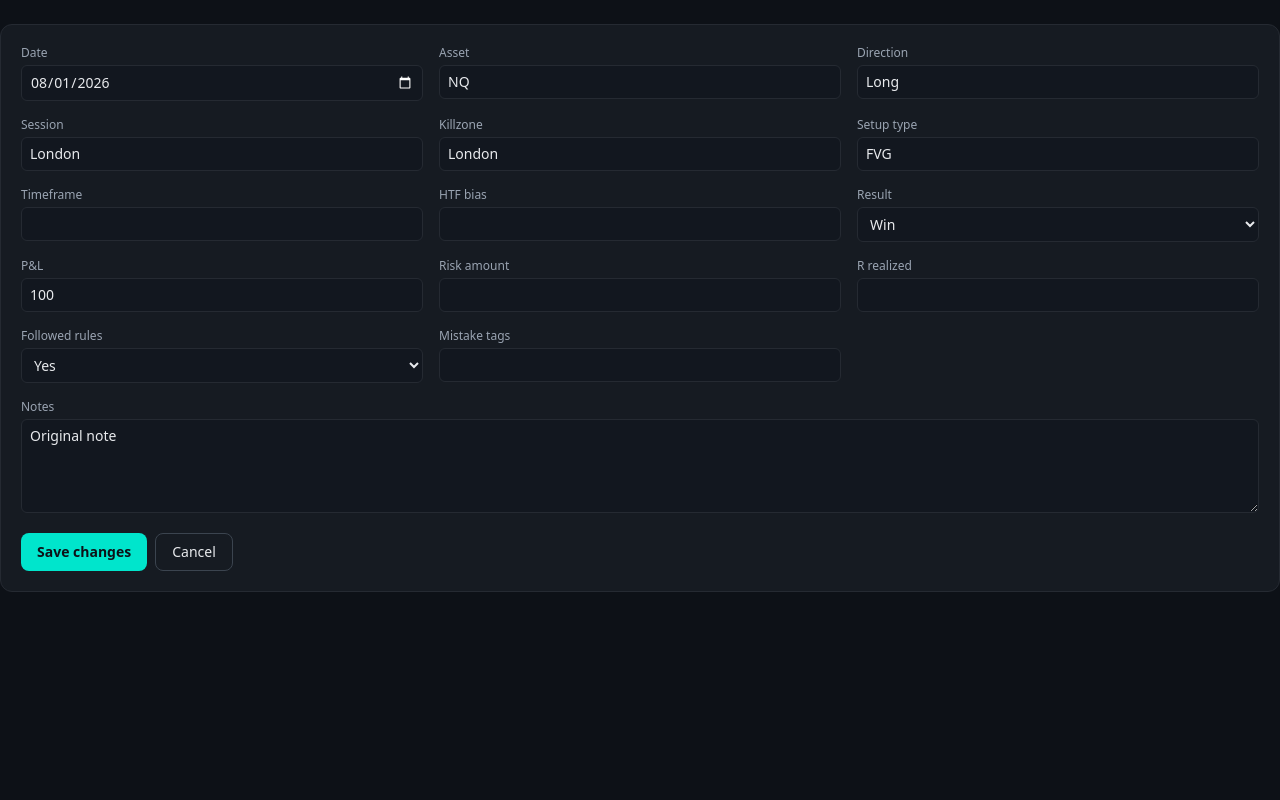
EditTradeForm › 409 conflict › does not silently discard the draft — the form is still there under Cancel
Replace the text in the field showing "NQ" with "ES" at (640, 82), box left=439, top=65, right=841, bottom=99
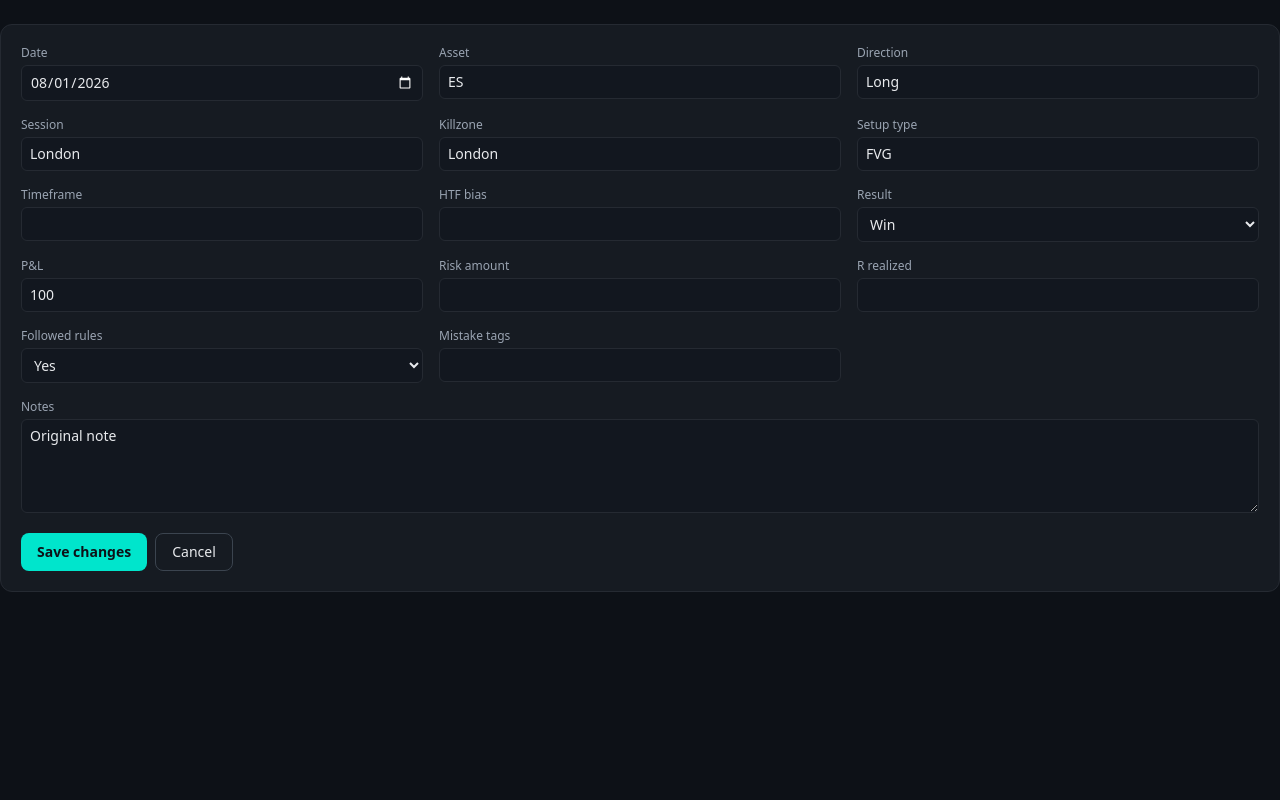
Click the button "Save changes" at (84, 552), box left=21, top=533, right=147, bottom=571
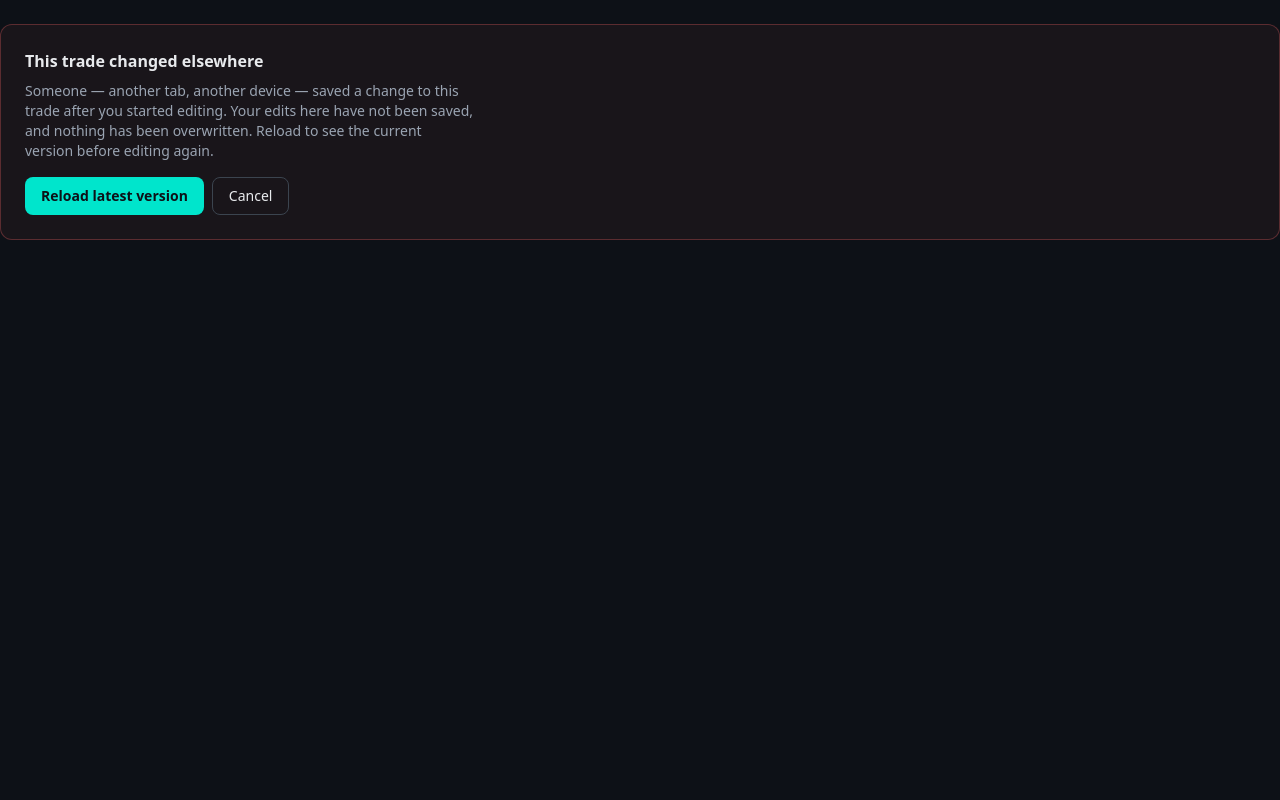
Expected: the button "Cancel" is shown, left=212, top=177, right=290, bottom=215
Result: the message is shown at left=0, top=24, right=1279, bottom=240
Result: the button "Reload latest version" is shown at left=25, top=177, right=204, bottom=215
